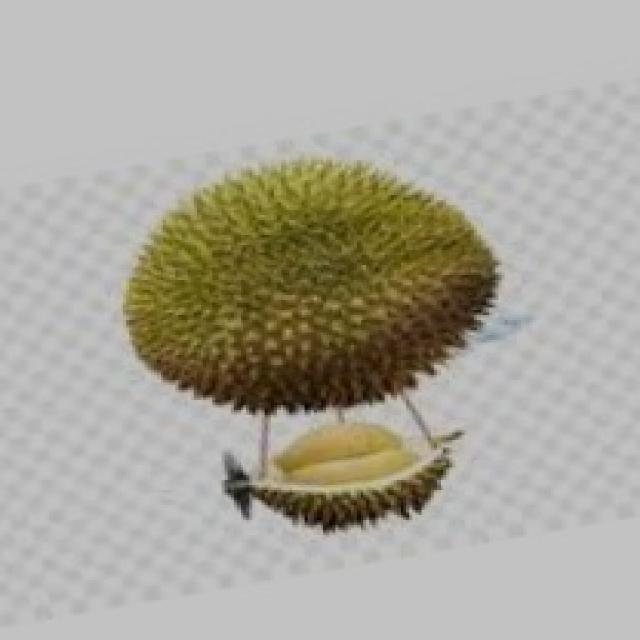fruit: (92, 117, 520, 465)
